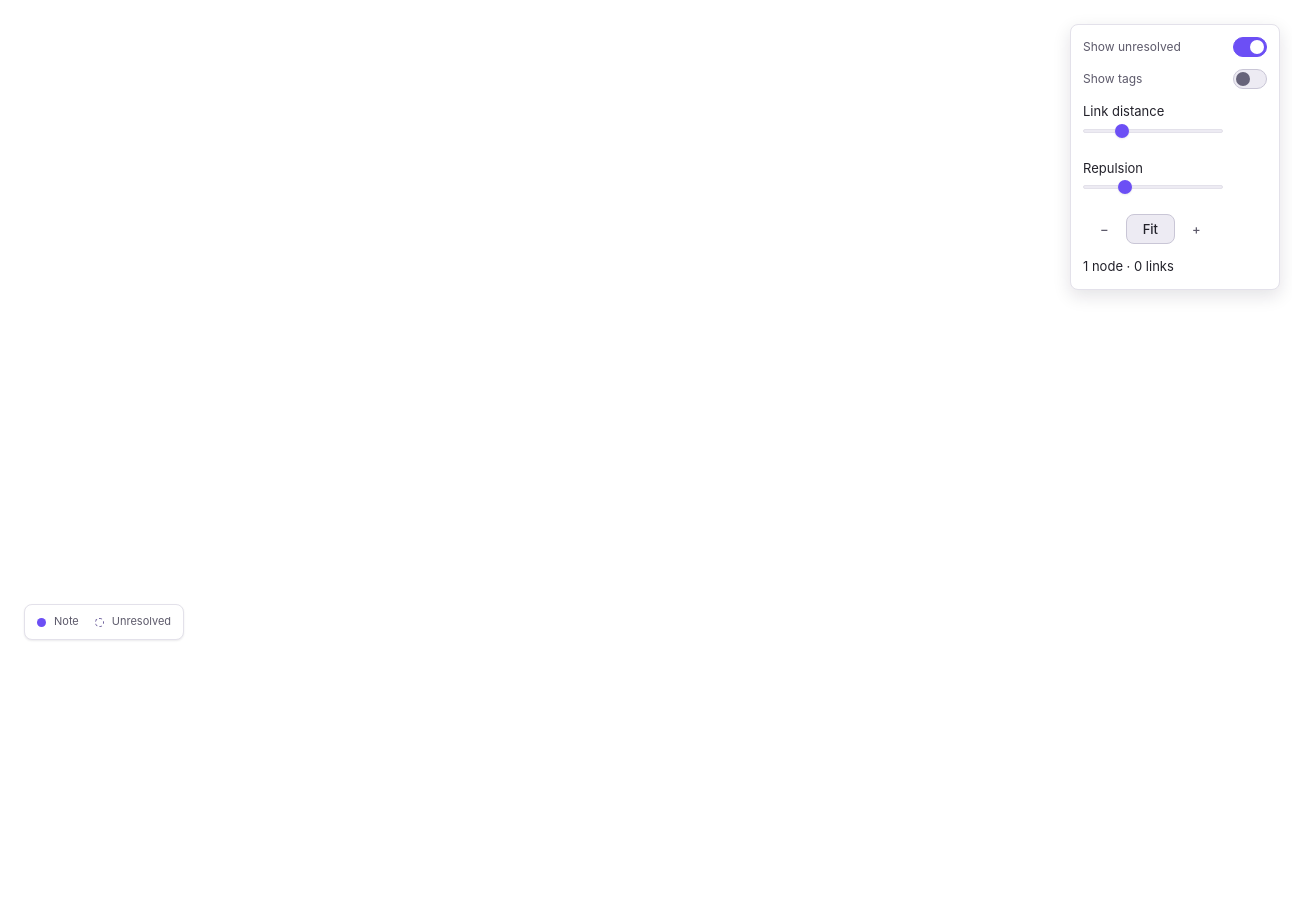
Test case: GraphView › writes "show tags" to settings and adds the tag node
The image size is (1304, 912).
Expected: the text "1 node · 0 links" is shown, [1083,258,1174,274]
Click the checkbox labelled "Show tags": point(1250, 79) [1233,69,1267,89]
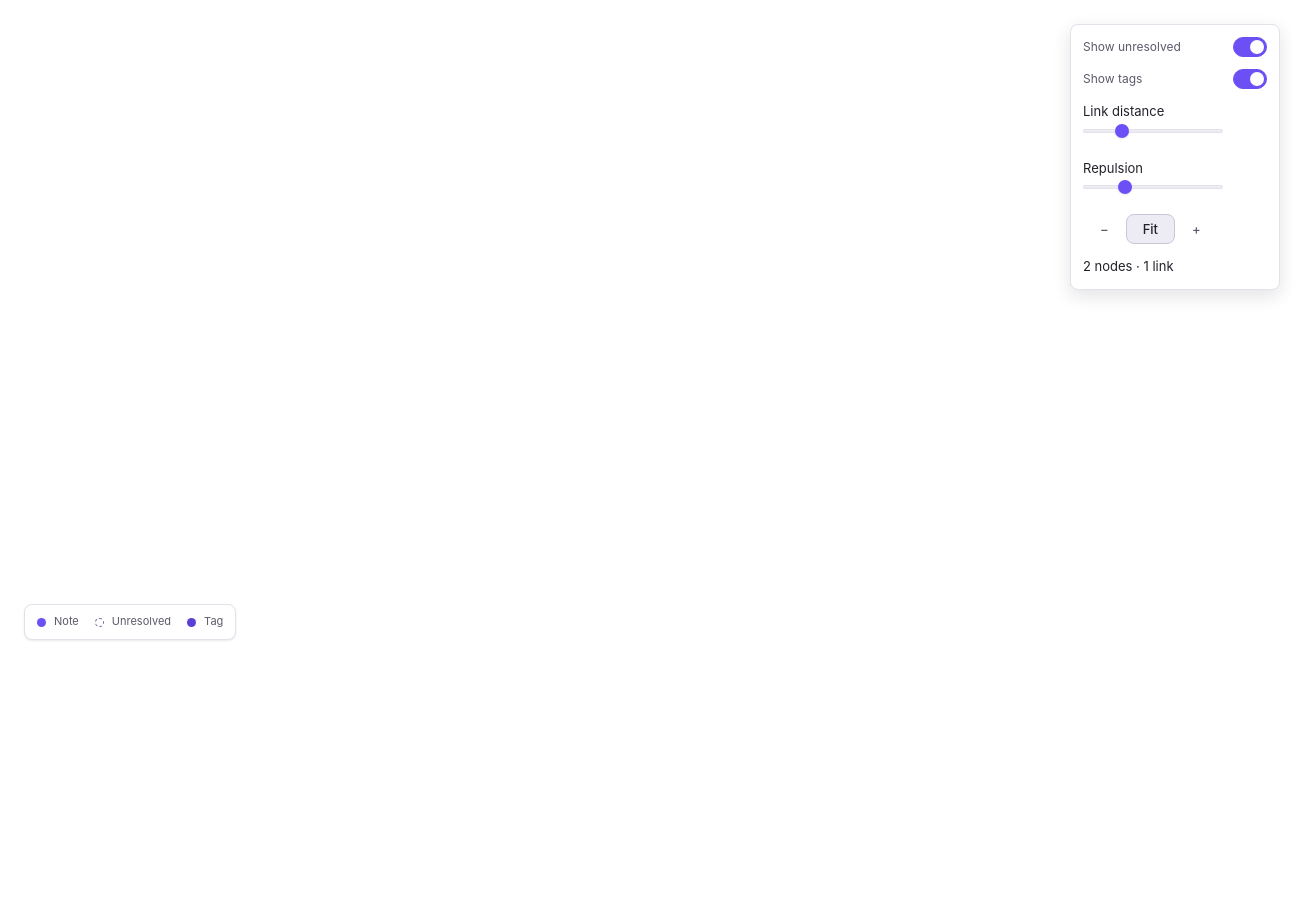
Expected: the text "2 nodes · 1 link" is shown, [1083,258,1174,274]
